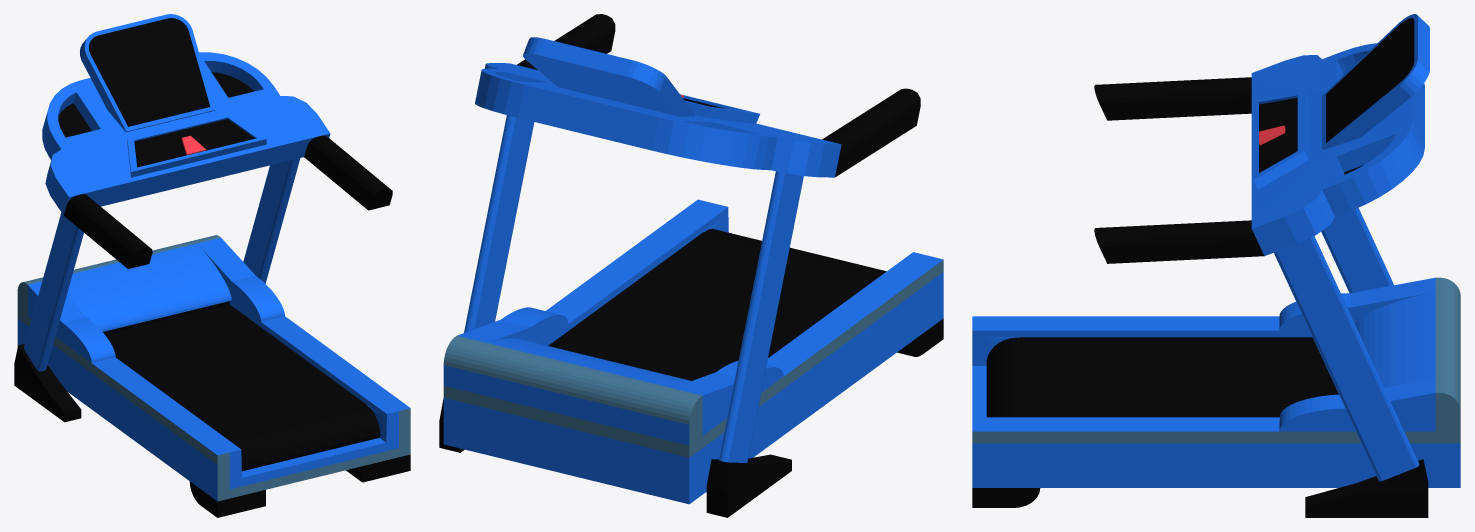
The model's file is Treadmill Ver2.fbx.
The picture shows the model from 3 angles, left to right: view 1: azimuth 30°, elevation 25°; view 2: azimuth 150°, elevation 25°; view 3: azimuth 270°, elevation 25°; orthographic projection. The views are drawn at different scales.
Parts seen in each view (by area): view 1: Treadmill 1 Lv1; view 2: Treadmill 1 Lv1; view 3: Treadmill 1 Lv1.
Boxes of the visible parts, x1,y1,x2,y2 form: Treadmill 1 Lv1: (14,14,410,517); Treadmill 1 Lv1: (439,14,943,517); Treadmill 1 Lv1: (972,14,1460,517).
Bounding box in the file's own units: 271 × 334 × 358.
